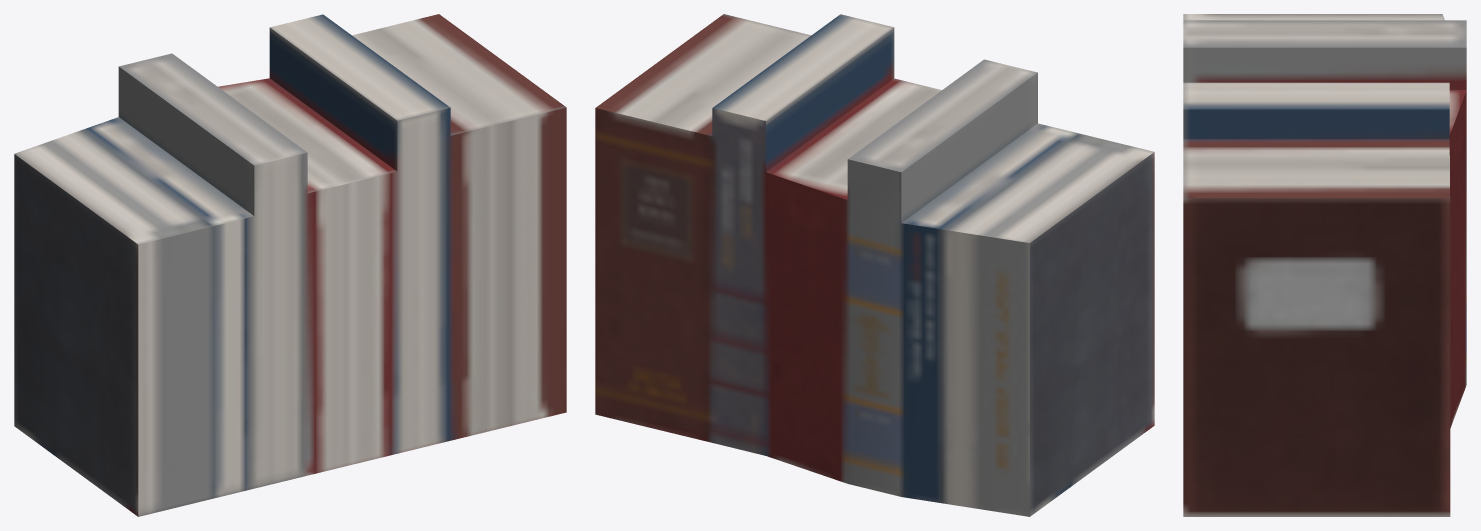
File: Book_Set.FBX
3 renders of one model, left to right at view 1: azimuth 30°, elevation 25°; view 2: azimuth 150°, elevation 25°; view 3: azimuth 270°, elevation 25°, orthographic. The views are drawn at different scales.
Parts seen in each view (by area): view 1: Book_Set; view 2: Book_Set; view 3: Book_Set.
Boxes of the visible parts, left/top/right/bottom form: Book_Set: left=14, top=14, right=566, bottom=516; Book_Set: left=595, top=14, right=1154, bottom=516; Book_Set: left=1183, top=14, right=1466, bottom=516.
Size of the model in its own units: 34.06 by 25.3 by 18.67.
